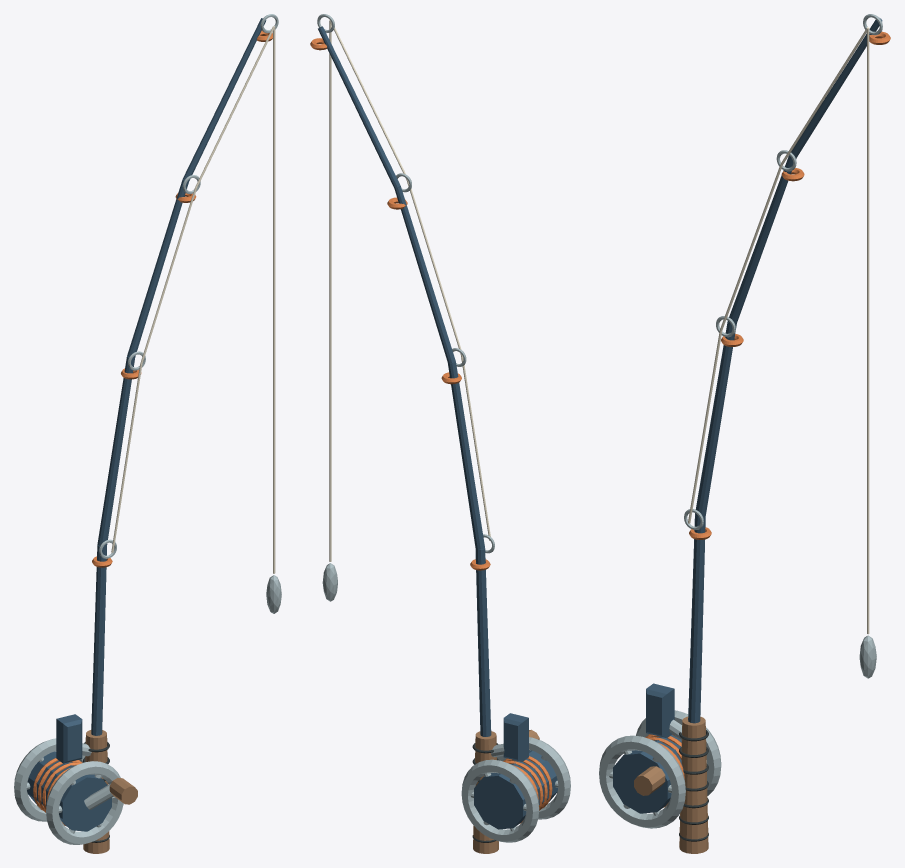
Rendered from harbor-and-tackle-sea-fishing-rod-078298ca__19566.glb.
3 views of the same model, side by side, from view 1: azimuth 30°, elevation 25°; view 2: azimuth 150°, elevation 25°; view 3: azimuth 330°, elevation 25° (orthographic). The views are drawn at different scales.
Parts seen in each view (by area): view 1: navy, metal, ivory, cedar, orange; view 2: navy, metal, ivory, orange, cedar; view 3: navy, metal, cedar, ivory, orange, rubber.
Part boxes in pixels (x1,y1,x2,y2): navy: (27,18,266,831); metal: (14,14,281,844); ivory: (111,26,275,573); cedar: (83,730,137,853); orange: (33,30,272,825); navy: (318,26,557,829); metal: (317,14,570,842); ivory: (329,20,490,561); orange: (310,38,552,823); cedar: (473,729,539,853); navy: (613,18,882,813); metal: (599,14,882,828); cedar: (634,716,708,853); ivory: (688,27,869,634); orange: (645,31,890,807); rubber: (679,730,708,841).
Size of the model in its own units: 0.8466 by 2.64 by 0.3427.
